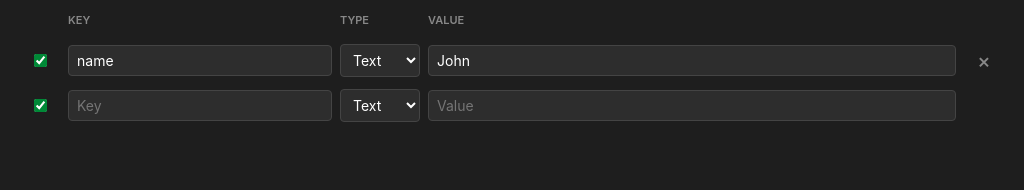
Test: FormDataEditor.vue › renders initial data and allows adding text pairs
The width and height of the screenshot is (1024, 190).
Check: the number of elements with class "formDataEditor__row" is 2, box x1=12 y1=36 x2=1012 y2=84; x1=12 y1=84 x2=1012 y2=126
Check: the 1st field holds "name", box x1=68 y1=45 x2=332 y2=76
#  Add row
Step 1. Type "age" into the field with placeholder "Key" → (200, 105), box x1=68 y1=90 x2=332 y2=120
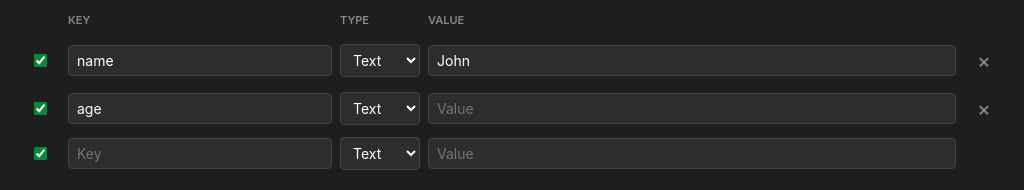
Check: the number of elements with class "formDataEditor__row" is 3, box x1=12 y1=36 x2=1012 y2=84; x1=12 y1=84 x2=1012 y2=132; x1=12 y1=132 x2=1012 y2=174
